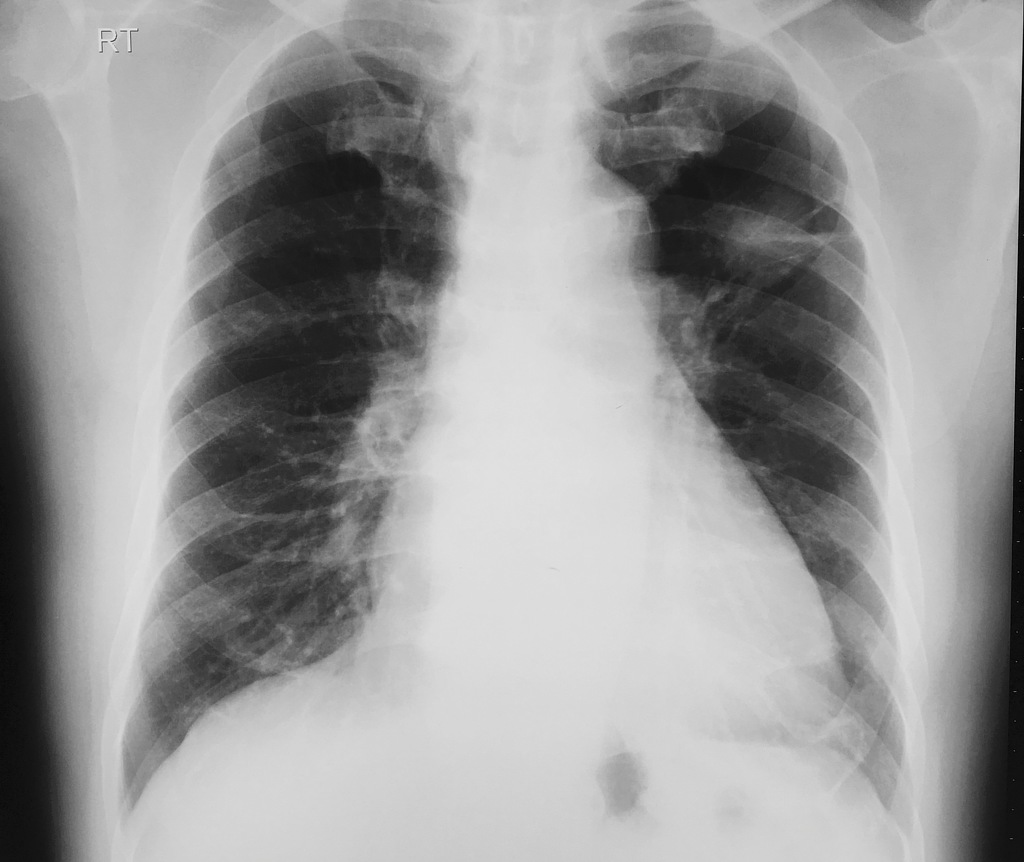cancer: (212, 147, 456, 683)
